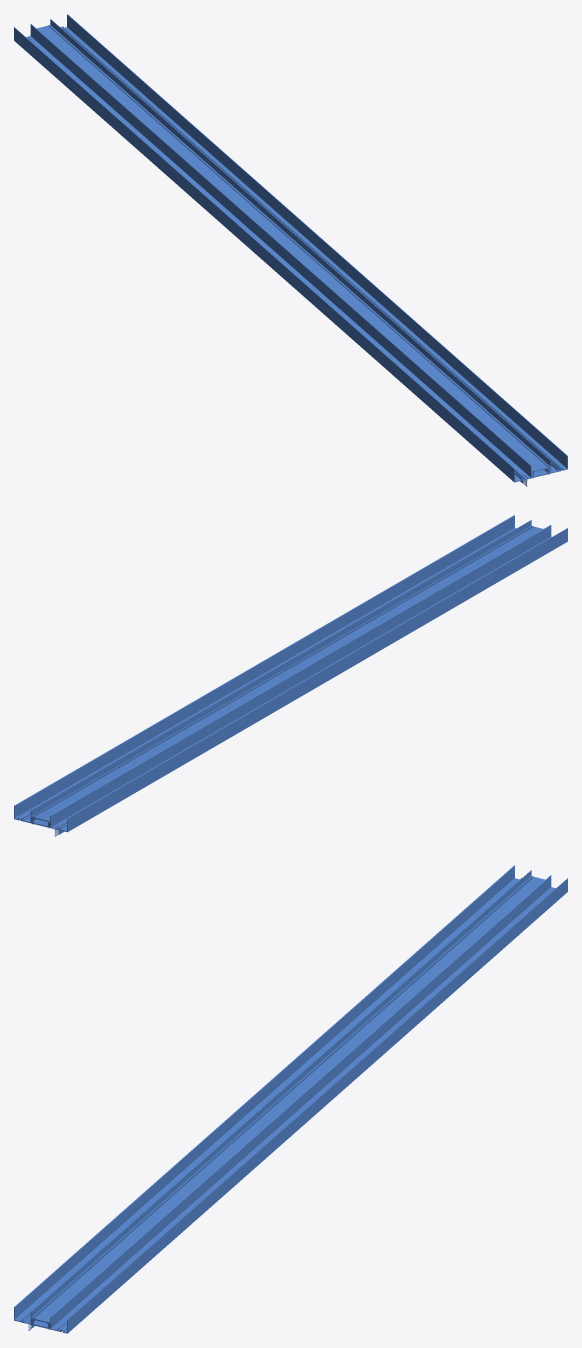
Rendered from left-p1-rcv-t-t02.glb.
3 renders of one model, top to bottom at view 1: azimuth 30°, elevation 25°; view 2: azimuth 150°, elevation 25°; view 3: azimuth 330°, elevation 25°, orthographic.
Visible parts, largest first — view 1: LEFT P1_RCV_T T02; view 2: LEFT P1_RCV_T T02; view 3: LEFT P1_RCV_T T02.
Boxes of the visible parts, <box> form: LEFT P1_RCV_T T02: <box>14,14,567,486</box>; LEFT P1_RCV_T T02: <box>14,515,567,836</box>; LEFT P1_RCV_T T02: <box>14,865,567,1333</box>.
Bounding box in the file's own units: 0.00418 × 0.00726 × 0.0676.
